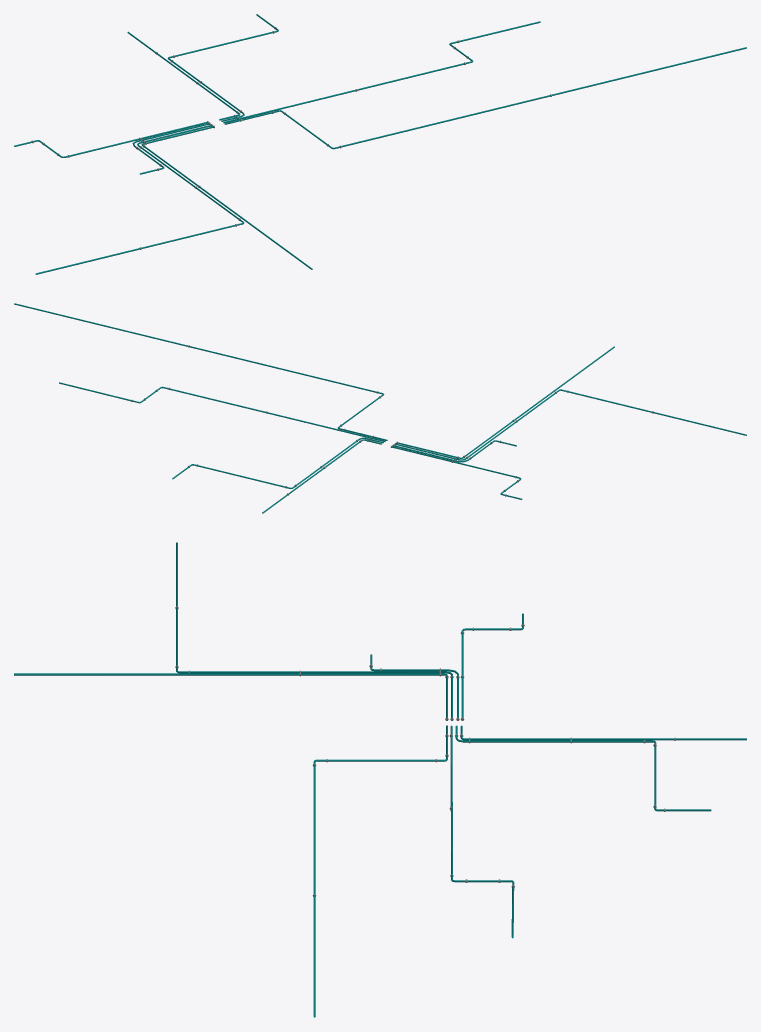
Rendered from miner_pipes.fbx.
The picture shows the model from 3 angles, top to bottom: view 1: azimuth 30°, elevation 25°; view 2: azimuth 150°, elevation 25°; view 3: azimuth 270°, elevation 25°; orthographic projection. The views are drawn at different scales.
Visible parts, largest first — view 1: Line025, Line023, Line021, Line031, Line020, Line038; view 2: Line025, Line023, Line021, Line031, Line020, Line038; view 3: Line031, Line025, Line023, Line020, Line019.
Boxes of the visible parts, x1,y1,x2,y2 form: Line025: (224,47,746,149); Line023: (35,124,244,274); Line021: (223,21,540,123); Line031: (141,125,312,269); Line020: (167,14,278,121); Line038: (14,121,208,157); Line025: (14,303,387,440); Line023: (394,389,746,460); Line021: (59,382,385,441); Line031: (396,346,614,458); Line020: (172,437,383,488); Line038: (390,445,522,499); Line031: (14,672,448,720); Line025: (312,725,448,1017); Line023: (175,542,453,720); Line020: (455,725,711,811); Line019: (460,725,746,740).
Bounding box in the file's own units: 2200 × 5.84 × 1439.
